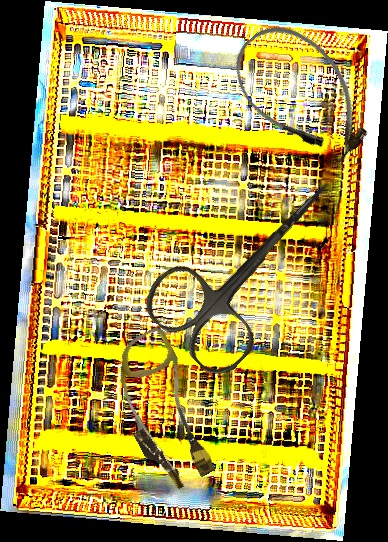Cannula: (217, 7, 387, 182), (93, 324, 233, 497)
Iris Scissors: (134, 144, 372, 385)
